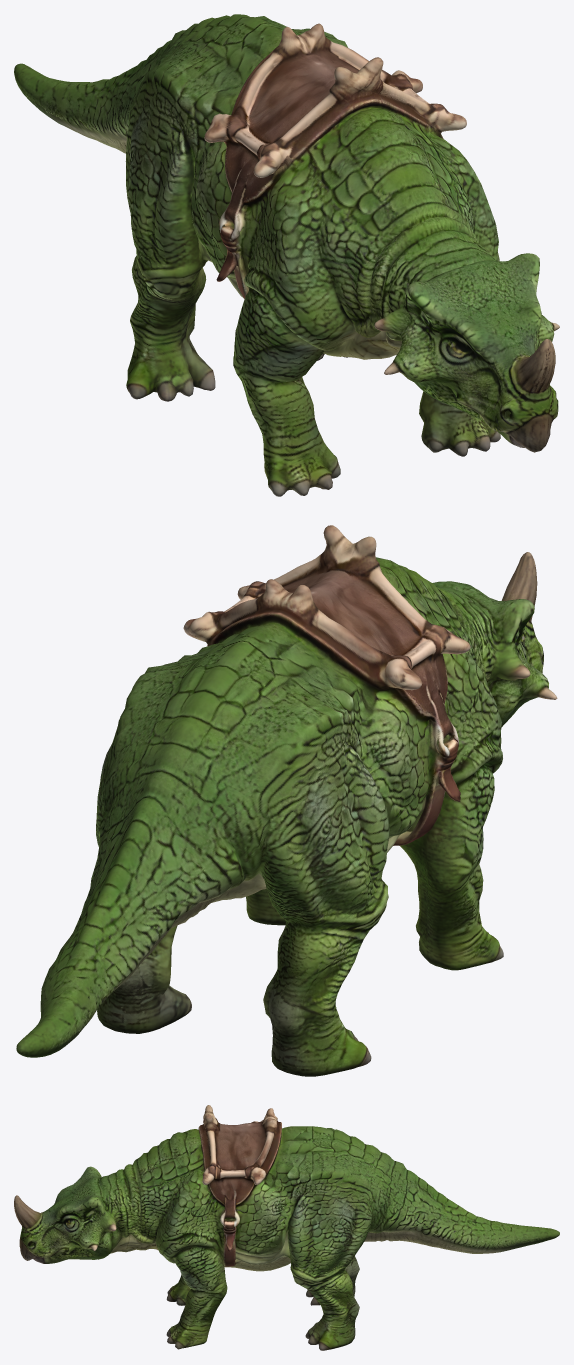
Rendered from rodin_d.glb.
3 views of the same model, one above another, from view 1: azimuth 30°, elevation 25°; view 2: azimuth 150°, elevation 25°; view 3: azimuth 270°, elevation 25° (orthographic). The views are drawn at different scales.
Parts seen in each view (by area): view 1: model; view 2: model; view 3: model.
Boxes of the visible parts, bbox=[...] form: model: bbox=[14, 14, 559, 496]; model: bbox=[16, 525, 557, 1076]; model: bbox=[14, 1105, 559, 1350].
Bounding box in the file's own units: 0.539 × 0.8062 × 1.89.
1 material, 1 textured.
